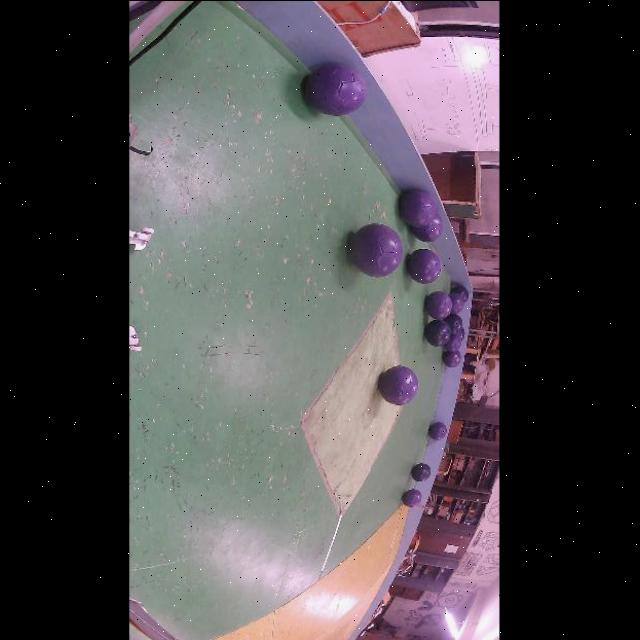B: (426, 319, 451, 346), (412, 462, 432, 481)
P: (306, 63, 368, 114), (349, 223, 404, 277), (379, 364, 419, 405), (400, 189, 437, 226), (408, 248, 442, 283), (412, 214, 444, 242), (426, 291, 453, 319), (403, 487, 423, 507), (450, 292, 466, 314), (430, 421, 448, 440)
